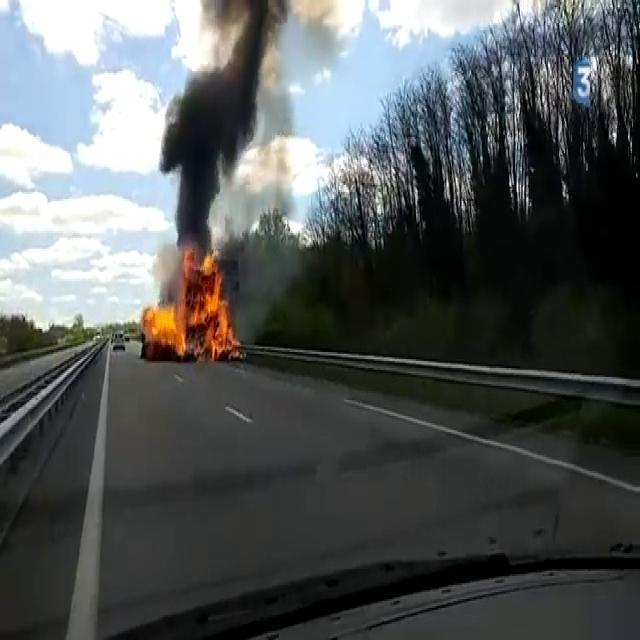Fire: (142, 246, 236, 360)
Smoke: (160, 0, 294, 240)
